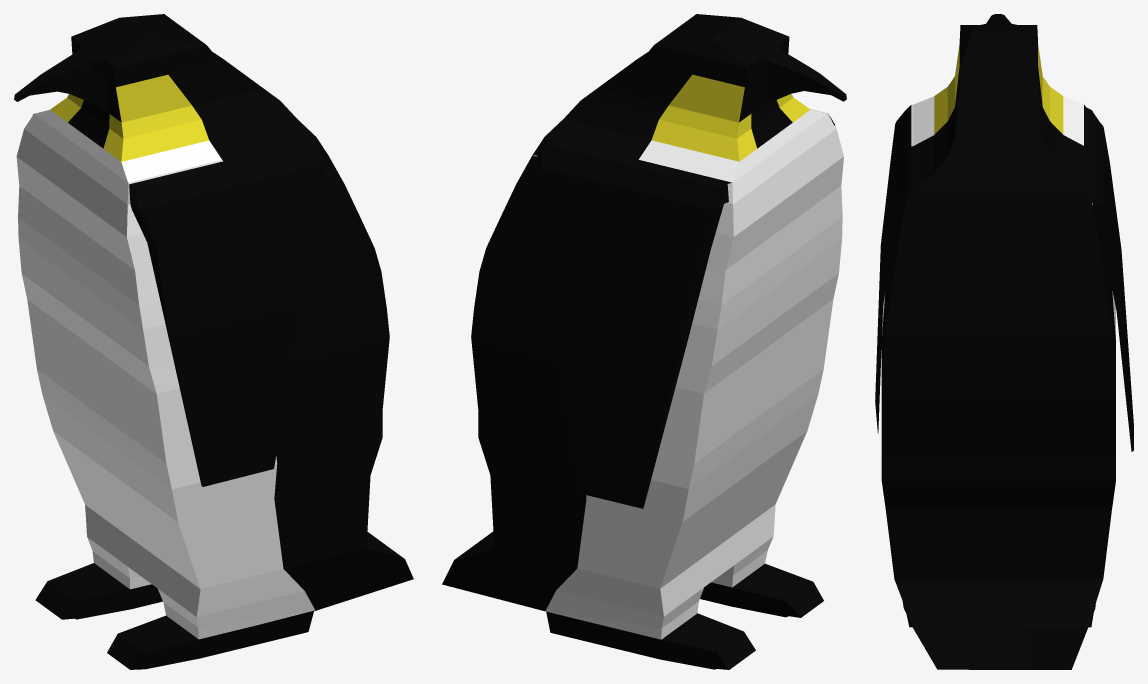
The model's file is PenguinUpdateColour-1(3).fbx.
3 views of the same model, side by side, from view 1: azimuth 30°, elevation 25°; view 2: azimuth 150°, elevation 25°; view 3: azimuth 270°, elevation 25° (orthographic). The views are drawn at different scales.
Parts seen in each view (by area): view 1: Cube; view 2: Cube; view 3: Cube.
Boxes of the visible parts, <box> form: Cube: <box>14,14,413,669</box>; Cube: <box>442,14,846,669</box>; Cube: <box>875,14,1133,669</box>.
Bounding box in the file's own units: 73.52 × 115 × 49.94.
